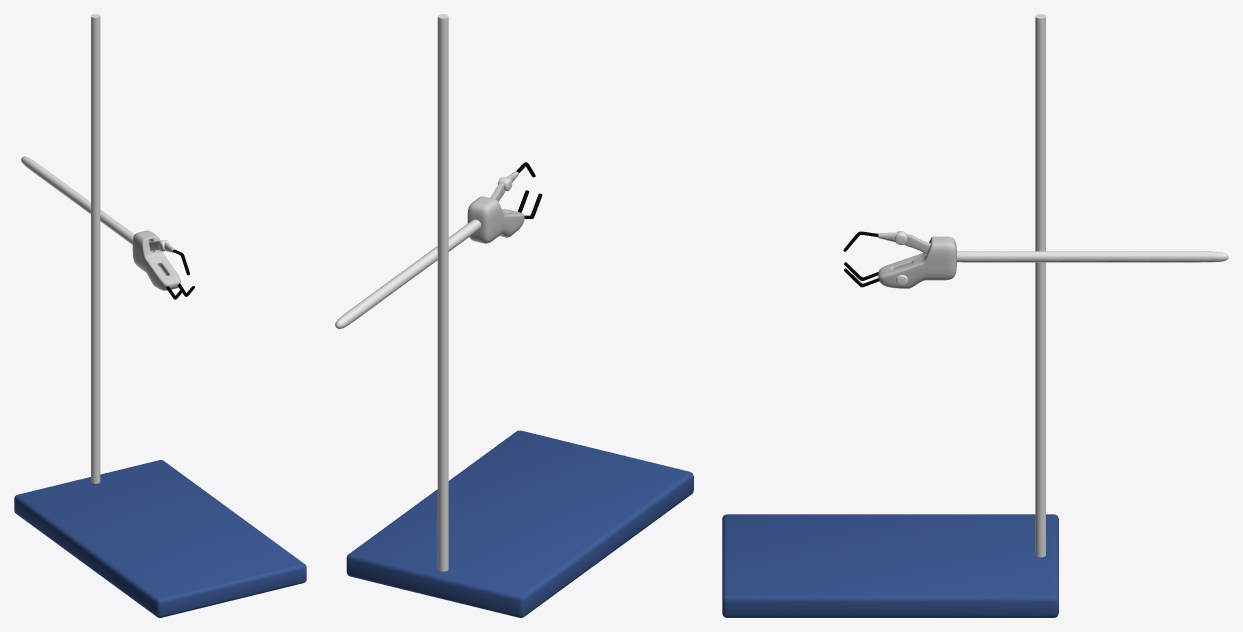
Rendered from Standart + Statif.fbx.
3 views of the same model, side by side, from view 1: azimuth 30°, elevation 25°; view 2: azimuth 150°, elevation 25°; view 3: azimuth 270°, elevation 25° (orthographic). The views are drawn at different scales.
Visible parts, largest first — view 1: Cube.056, Cylinder.011, Cube.057, Cube.107; view 2: Cube.056, Cylinder.011, Cube.107, Cube.057; view 3: Cube.056, Cylinder.011, Cube.107, Cube.057.
Part boxes in pixels (x1,y1,x2,y2): Cube.056: (14, 460, 306, 617); Cylinder.011: (91, 14, 100, 483); Cube.057: (132, 230, 180, 290); Cube.107: (21, 156, 134, 244); Cube.056: (346, 430, 693, 617); Cylinder.011: (437, 14, 448, 571); Cube.107: (335, 219, 480, 328); Cube.057: (467, 196, 524, 243); Cube.056: (722, 514, 1058, 617); Cylinder.011: (1035, 14, 1045, 557); Cube.107: (957, 251, 1228, 262); Cube.057: (878, 236, 956, 288).
Bounding box in the file's own units: 16.71 × 51.6 × 42.23.
